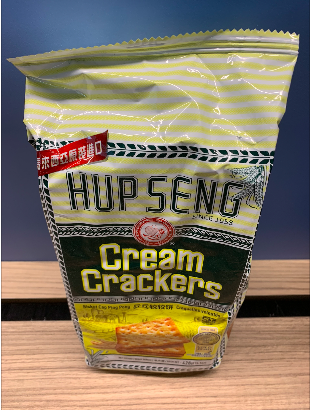Crackers_400-499g: (54, 146, 237, 357)
